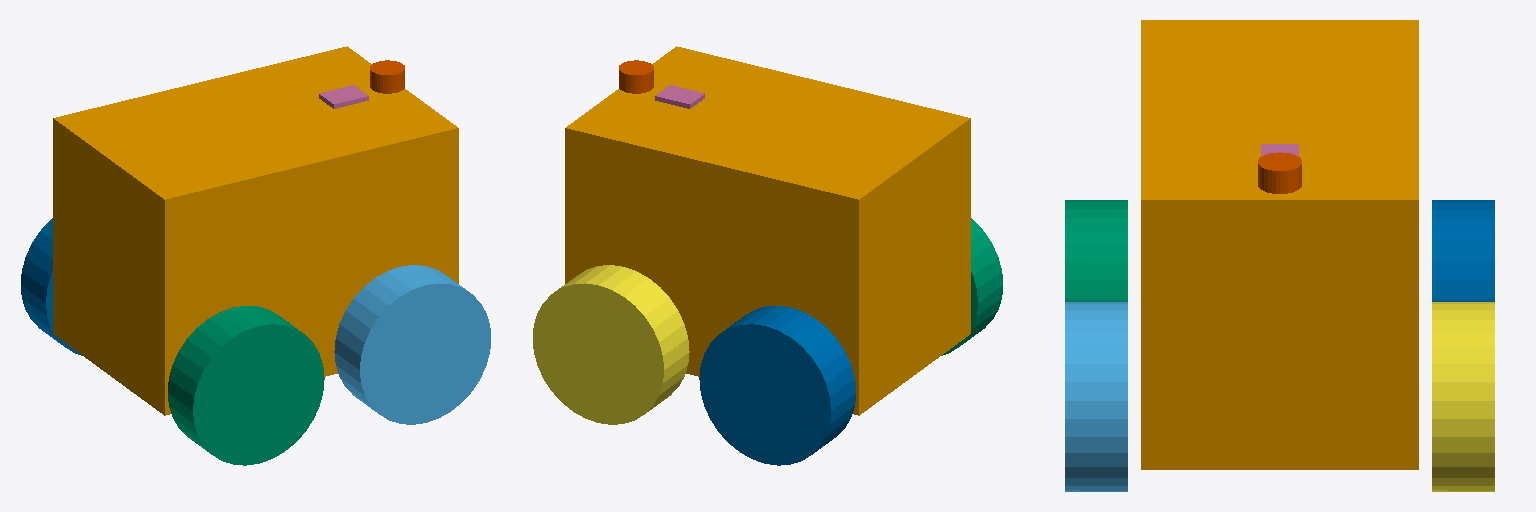
URDF robot description (TargetBot):
<?xml version="1.0"?>
<robot name="TargetBot">

<link name="chasis">
	<inertial>
		<origin rpy="0 0 0" xyz="0 0 0.325"/>
		<mass value="1.0"/>
		<inertia ixx="0.05581666666666666666666666666667" ixy="0.0" ixz="0.0" iyy="0.05354166666666666666666666666667" iyz="0.0" izz="0.03454166666666666666666666666667"/>
		<!--mass value="122.0"/>
		<inertia ixx="6.8096333333333333333333333333333?" ixy="0.0" ixz="0.0" iyy="6.5320833333333333333333333333333" iyz="0.0" izz="4.2140833333333333333333333333333?"/-->
	</inertial>
	<visual>
		<origin rpy="0 0 0" xyz="0 0 0.325"/>
		<geometry>
			<box size="0.67 0.44 0.47"/>
		</geometry>
	</visual>
	<collision>
		<origin rpy="0 0 0" xyz="0 0 0.325"/>
		<geometry>
			<box size="0.67 0.44 0.47"/>
		</geometry>
	</collision>
</link>

<gazebo reference="chasis">
	<material>Gazebo/ZincYellow</material>
</gazebo>

<link name="right_front_wheel">
	<inertial>
		<origin rpy="1.5707 0 0" xyz="0 0 0"/>
		<mass value="2.0"/>
		<inertia ixx="0.01291666666666666666666666666667" ixy="0.0" ixz="0.0" iyy="0.01291666666666666666666666666667" iyz="0.0" izz="0.00050625"/>
	</inertial>
	<visual>
		<origin rpy="1.5707 0 0" xyz="0 0 0"/>
		<geometry>
			<cylinder length="0.1" radius="0.15"/>
		</geometry>
		<material name="blue"/>
	</visual>
	<collision>
		<origin rpy="1.5707 0 0" xyz="0 0 0"/>
		<geometry>
			<cylinder length="0.1" radius="0.15"/>
		</geometry>
	</collision>
</link>

<gazebo reference="right_front_wheel">
	<material>Gazebo/DarkGrey</material>
</gazebo>

<joint name="right_front_wheel_to_chasis" type="continuous">
	<axis xyz="0 1 0"/>
	<parent link="chasis"/>
	<child link="right_front_wheel"/>
	<origin xyz="0.19 -0.29 0.15"/>
	<inertial>
		<mass value="2.0"/>
		<inertia ixx="0.01291666666666666666666666666667" ixy="0.0" ixz="0.0" iyy="0.01291666666666666666666666666667" iyz="0.0" izz="0.00050625"/>
	</inertial>
</joint>

<link name="right_rear_wheel">
	<inertial>
		<origin rpy="1.5707 0 0" xyz="0 0 0"/>
		<mass value="2.0"/>
		<inertia ixx="0.01291666666666666666666666666667" ixy="0.0" ixz="0.0" iyy="0.01291666666666666666666666666667" iyz="0.0" izz="0.00050625"/>
	</inertial>
	<visual>
		<origin rpy="1.5707 0 0" xyz="0 0 0"/>
		<geometry>
			<cylinder length="0.1" radius="0.15"/>
		</geometry>
		<material name="blue"/>
	</visual>
	<collision>
		<origin rpy="1.5707 0 0" xyz="0 0 0"/>
		<geometry>
			<cylinder length="0.1" radius="0.15"/>
		</geometry>
	</collision>
</link>

<gazebo reference="right_rear_wheel">
	<material>Gazebo/DarkGrey</material>
</gazebo>

<joint name="right_rear_wheel_to_chasis" type="continuous">
	<axis xyz="0 1 0"/>
	<parent link="chasis"/>
	<child link="right_rear_wheel"/>
	<origin xyz="-0.19 -0.29 0.15"/>
	<inertial>
		<mass value="2.0"/>
		<inertia ixx="0.01291666666666666666666666666667" ixy="0.0" ixz="0.0" iyy="0.01291666666666666666666666666667" iyz="0.0" izz="0.00050625"/>
	</inertial>
</joint>

<link name="left_front_wheel">
	<inertial>
		<origin rpy="1.5707 0 0" xyz="0 0 0"/>
		<mass value="2.0"/>
		<inertia ixx="0.01291666666666666666666666666667" ixy="0.0" ixz="0.0" iyy="0.01291666666666666666666666666667" iyz="0.0" izz="0.00050625"/>
	</inertial>
	<visual>
		<origin rpy="1.5707 0 0" xyz="0 0 0"/>
		<geometry>
			<cylinder length="0.1" radius="0.15"/>
		</geometry>
		<material name="blue"/>
	</visual>
	<collision>
		<origin rpy="1.5707 0 0" xyz="0 0 0"/>
		<geometry>
			<cylinder length="0.1" radius="0.15"/>
		</geometry>
	</collision>
</link>

<gazebo reference="left_front_wheel">
	<material>Gazebo/DarkGrey</material>
</gazebo>

<joint name="left_front_wheel_to_chasis" type="continuous">
	<axis xyz="0 1 0"/>
	<parent link="chasis"/>
	<child link="left_front_wheel"/>
	<origin xyz="0.19 0.29 0.15"/>
	<inertial>
		<mass value="2.0"/>
		<inertia ixx="0.01291666666666666666666666666667" ixy="0.0" ixz="0.0" iyy="0.01291666666666666666666666666667" iyz="0.0" izz="0.00050625"/>
	</inertial>
</joint>

<link name="left_rear_wheel">
	<inertial>
		<origin rpy="1.5707 0 0" xyz="0 0 0"/>
		<mass value="2.0"/>
		<inertia ixx="0.01291666666666666666666666666667" ixy="0.0" ixz="0.0" iyy="0.01291666666666666666666666666667" iyz="0.0" izz="0.00050625"/>
	</inertial>
	<visual>
		<origin rpy="1.5707 0 0" xyz="0 0 0"/>
		<geometry>
			<cylinder length="0.1" radius="0.15"/>
		</geometry>
		<material name="blue"/>
	</visual>
	<collision>
		<origin rpy="1.5707 0 0" xyz="0 0 0"/>
		<geometry>
			<cylinder length="0.1" radius="0.15"/>
		</geometry>
	</collision>
</link>

<gazebo reference="left_rear_wheel">
	<material>Gazebo/DarkGrey</material>
</gazebo>

<joint name="left_rear_wheel_to_chasis" type="continuous">
	<axis xyz="0 1 0"/>
	<parent link="chasis"/>
	<child link="left_rear_wheel"/>
	<origin xyz="-0.19 0.29 0.15"/>
	<inertial>
		<mass value="2.0"/>
		<inertia ixx="0.01291666666666666666666666666667" ixy="0.0" ixz="0.0" iyy="0.01291666666666666666666666666667" iyz="0.0" izz="0.00050625"/>
	</inertial>
</joint>

<!-- RPLidar Laser -->
<link name="rplidar_link">
	<collision>
		<origin xyz="0 0 0" rpy="0 0 0"/>
		<geometry>
			<cylinder length="0.04" radius="0.035"/>
		</geometry>
	</collision>

	<visual>
		<origin xyz="0 0 0" rpy="0 0 0"/>
		<geometry>
			<cylinder length="0.04" radius="0.035"/>
		</geometry>
	</visual>

	<inertial>
		<mass value="1e-5" />
		<origin xyz="0 0 0" rpy="0 0 0"/>
		<inertia ixx="1e-6" ixy="0" ixz="0" iyy="1e-6" iyz="0" izz="1e-6" />
	</inertial>
</link>

<gazebo reference="rplidar_link">
	<material>Gazebo/DarkGrey</material>
</gazebo>

<joint name="rplidar_joint" type="fixed">
	<axis xyz="0 1 0" />
	<origin xyz="0.3 0 0.59" rpy="0 0 0"/>
	<parent link="chasis"/>
	<child link="rplidar_link"/>
	<inertial>
		<mass value="1.0"/>
		<inertia ixx="5.1458e-5" iyy="5.1458e-5" izz="5.1458e-5" ixy="0" ixz="0" iyz="0"/>
	</inertial>
</joint>

<!-- Lidar Laser Scan -->
<gazebo reference="rplidar_link">
	<sensor type="ray" name="head_hokuyo_sensor">
	<pose>0 0 0 0 0 0</pose>
	<visualize>false</visualize>
	<update_rate>40</update_rate>
	<ray>
		<scan>
			<horizontal>
				<samples>720</samples>
				<resolution>1</resolution>
				<min_angle>-3.14159</min_angle>
				<max_angle>3.14159</max_angle>
			</horizontal>
		</scan>
		<range>
			<min>0.10</min>
			<max>30.0</max>
			<resolution>0.01</resolution>
		</range>
		<noise>
			<type>gaussian</type>
			<!-- Noise parameters based on published spec for Hokuyo laser
			achieving "+-30mm" accuracy at range < 10m.  A mean of 0.0m and
			stddev of 0.01m will put 99.7% of samples within 0.03m of the true
			reading. -->
			<mean>0.0</mean>
			<stddev>0.01</stddev>
		</noise>
	</ray>
	<plugin name="gazebo_ros_head_hokuyo_controller" filename="libgazebo_ros_laser.so">
		<topicName>/laser/scan</topicName>
		<frameName>hokuyo_link</frameName>
	</plugin>
	</sensor>
</gazebo>

<!-- IMU -->
<link name="imu_link">
	<collision>
		<origin xyz="0 0 0" rpy="0 0 0"/>
		<geometry>
			<box size="0.08 0.06 0.01"/>
		</geometry>
	</collision>

	<visual>
		<origin xyz="0 0 0" rpy="0 0 0"/>
		<geometry>
			<box size="0.08 0.06 0.01"/>
		</geometry>
	</visual>

	<inertial>
		<mass value="1e-5" />
		<origin xyz="0 0 0" rpy="0 0 0"/>
		<inertia ixx="1e-6" ixy="0" ixz="0" iyy="1e-6" iyz="0" izz="1e-6" />
	</inertial>
</link>

<joint name="imu_joint" type="fixed">
	<axis xyz="0 1 0" />
	<origin xyz="0.2 0 0.57" rpy="0 0 0"/>
	<parent link="chasis"/>
	<child link="imu_link"/>
	<inertial>
		<mass value="1.0"/>
		<inertia ixx="5.1458e-5" iyy="5.1458e-5" izz="5.1458e-5" ixy="0" ixz="0" iyz="0"/>
	</inertial>
</joint>

<gazebo reference="imu_link">
	<material>Gazebo/Blue</material>
	<gravity>true</gravity>
	<sensor name="imu_sensor" type="imu">
		<always_on>true</always_on>
		<update_rate>100</update_rate>
		<visualize>true</visualize>
		<topic>__default_topic__</topic>
		<plugin filename="libgazebo_ros_imu_sensor.so" name="imu_plugin">
			<topicName>imu</topicName>
			<bodyName>imu_link</bodyName>
			<updateRateHZ>10.0</updateRateHZ>
			<gaussianNoise>0.0</gaussianNoise>
			<xyzOffset>0 0 0</xyzOffset>
			<rpyOffset>0 0 0</rpyOffset>
			<frameName>imu_link</frameName>
			<initialOrientationAsReference>false</initialOrientationAsReference>
		</plugin>
		<pose>0 0 0 0 0 0</pose>
	</sensor>
</gazebo>

<!--Differential Drive-->
<gazebo>
	<plugin name="skid_steer_drive_controller" filename="libgazebo_ros_skid_steer_drive.so">
		<updateRate>100.0</updateRate>
		<robotNamespace>/</robotNamespace>
		<leftFrontJoint>left_front_wheel_to_chasis</leftFrontJoint>
		<rightFrontJoint>right_front_wheel_to_chasis</rightFrontJoint>
		<leftRearJoint>left_rear_wheel_to_chasis</leftRearJoint>
		<rightRearJoint>right_rear_wheel_to_chasis</rightRearJoint>
		<wheelSeparation>0.58</wheelSeparation>
		<wheelDiameter>0.3</wheelDiameter>
		<robotBaseFrame>chasis</robotBaseFrame>
		<torque>20</torque>
		<topicName>cmd_vel</topicName>
		<broadcastTF>false</broadcastTF>
	</plugin>
</gazebo>
</robot>

--- What the picture shows (computed from the rendered views, not written in the file) ---
The picture shows the robot from 3 angles, left to right: view 1: azimuth 30°, elevation 25°; view 2: azimuth 150°, elevation 25°; view 3: azimuth 270°, elevation 25°; orthographic projection.
Model TargetBot with 7 links and 6 joints (4 continuous, 2 fixed), rooted at chasis, posed every joint at zero.
Visible links, largest first — view 1: chasis, right_front_wheel, right_rear_wheel, left_rear_wheel, rplidar_link, imu_link; view 2: chasis, left_front_wheel, left_rear_wheel, right_rear_wheel, rplidar_link, imu_link; view 3: chasis, right_front_wheel, left_front_wheel, right_rear_wheel, left_rear_wheel, rplidar_link.
Link boxes in pixels (x1,y1,x2,y2): chasis: (53,46,458,415); right_front_wheel: (334,265,490,424); right_rear_wheel: (168,306,324,465); left_rear_wheel: (21,218,81,355); rplidar_link: (370,60,404,93); imu_link: (319,85,368,108); chasis: (565,46,970,415); left_front_wheel: (533,265,689,424); left_rear_wheel: (699,306,855,465); right_rear_wheel: (942,218,1002,355); rplidar_link: (619,60,653,93); imu_link: (655,85,704,108); chasis: (1141,20,1418,469); right_front_wheel: (1065,302,1127,491); left_front_wheel: (1432,302,1494,491); right_rear_wheel: (1065,200,1127,301); left_rear_wheel: (1432,200,1494,301); rplidar_link: (1258,152,1301,193).
Size in the robot's own frame: 0.68 by 0.68 by 0.61 metres.
Geometry: primitives only (box / cylinder / sphere), no mesh files.
